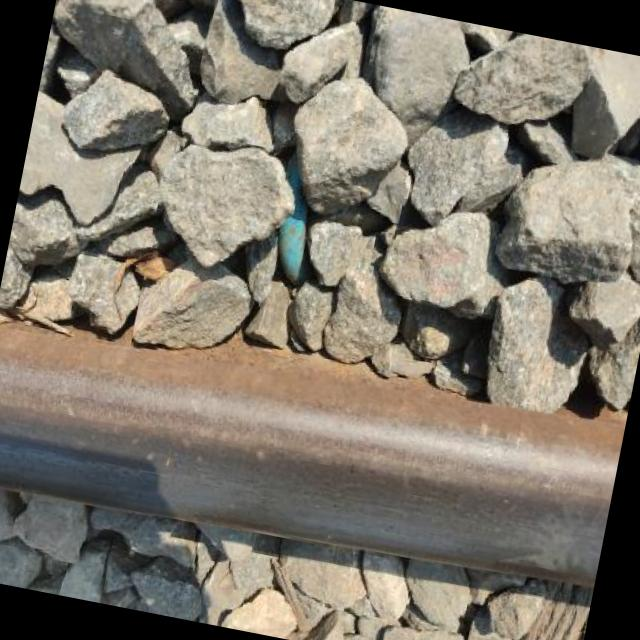non-defective: (0, 289, 628, 606)
